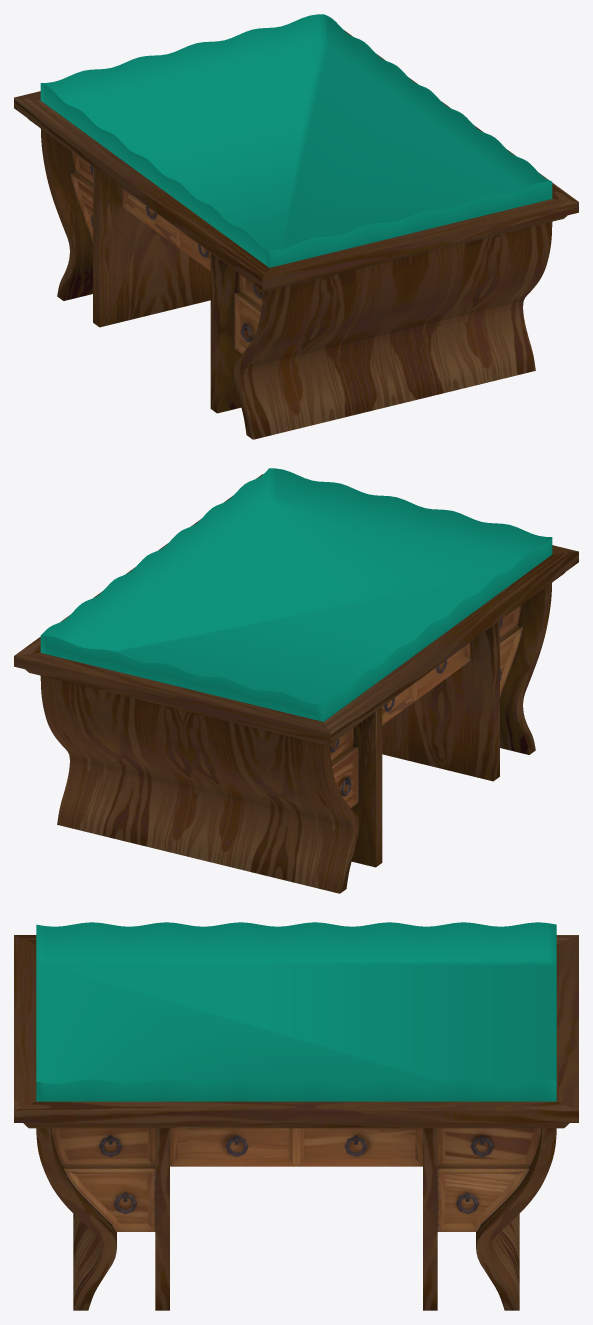
The model's file is board.glb.
3 views of the same model, one above another, from view 1: azimuth 30°, elevation 25°; view 2: azimuth 150°, elevation 25°; view 3: azimuth 270°, elevation 25° (orthographic). The views are drawn at different scales.
Parts seen in each view (by area): view 1: board; view 2: board; view 3: board.
Boxes of the visible parts, box(x1,y1,x2,y2) form: board: box(14, 14, 578, 439); board: box(14, 468, 578, 893); board: box(14, 922, 578, 1310).
Size of the model in its own units: 5.6 by 3.43 by 7.6.
1 material, 1 textured.
